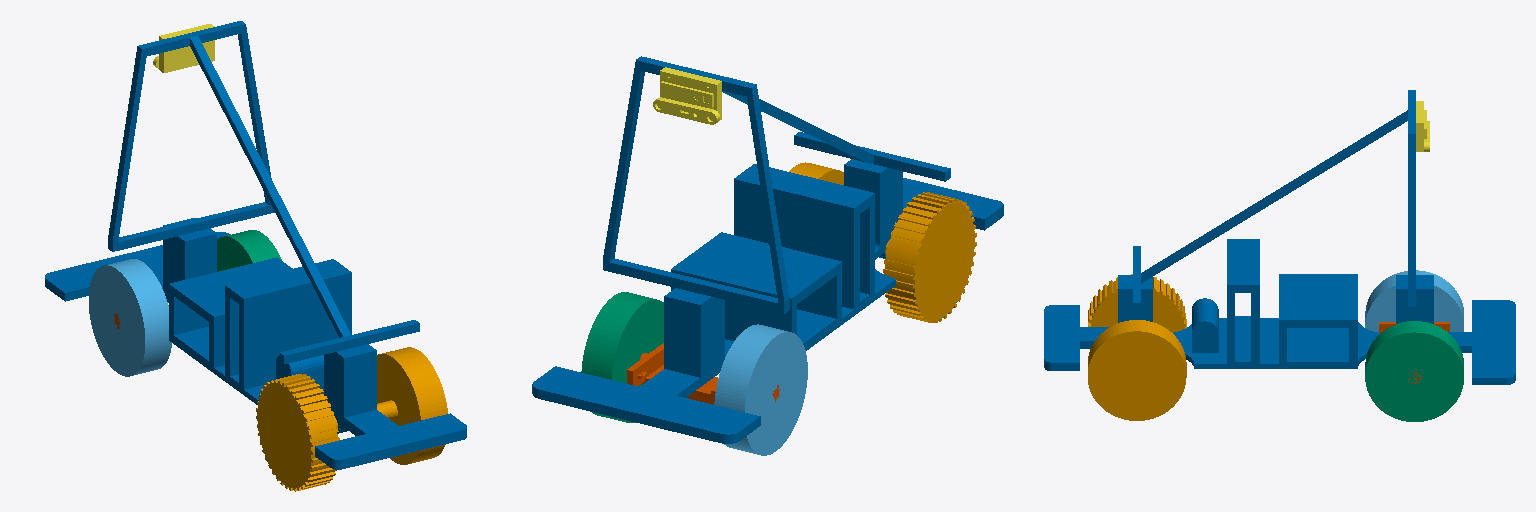
The robot description file, URDF, robot "(Unsaved)":
<?xml version='1.0' encoding='utf-8'?>
<robot name="(Unsaved)">
    <link name="Back_wheels">
        <inertial>
            <origin xyz="3.842196187875402e-09 -0.00020507013501120497 -0.022227366047362317" rpy="1.0270412732280397e-91 -0.0 0.0" />
            <mass value="20.66206902776893" />
            <inertia ixx="0.2438239801543789" iyy="0.24382049517018312" izz="0.07998280022014725" ixy="-1.0047518372857667e-14" iyz="-0.0003724536269543721" ixz="-1.3550272015550036e-13" />
        </inertial>
        <visual name="Back_wheels_visual">
            <origin xyz="3.842252107588706e-09 -0.2549864591128662 -0.0251377539084877" rpy="-1.570796326792494 -1.570256115713959 -1.5707963268000877" />
            <geometry>
                <mesh filename="package://modukart/meshes/Back_wheels.stl" scale="0.001 0.001 0.001" />
            </geometry>
        </visual>
        <collision name="Back_wheels_collision">
            <origin xyz="3.842252107588706e-09 -0.2549864591128662 -0.0251377539084877" rpy="-1.570796326792494 -1.570256115713959 -1.5707963268000877" />
            <geometry>
                <mesh filename="package://modukart/meshes/Back_wheels.stl" scale="0.001 0.001 0.001" />
            </geometry>
        </collision>
    </link>
    <link name="Front_wheel_left">
        <inertial>
            <origin xyz="4.535136728378575e-09 1.3505946814795778e-05 -0.02499999905359404" rpy="1.7516230804060213e-46 -0.0 0.0" />
            <mass value="10.124080229337785" />
            <inertia ixx="0.02320706211644341" iyy="0.023207067658124324" izz="0.04219575192948445" ixy="6.858402734621906e-14" iyz="-1.0257901648075277e-05" ixz="8.326672684688677e-17" />
        </inertial>
        <visual name="Front_wheel_left_visual">
            <origin xyz="4.529884414239405e-09 -0.2549324357268817 -0.12513773828112604" rpy="1.5707963267972227 1.570256115713959 1.570796326797222" />
            <geometry>
                <mesh filename="package://modukart/meshes/Front_wheel_left.stl" scale="0.001 0.001 0.001" />
            </geometry>
        </visual>
        <collision name="Front_wheel_left_collision">
            <origin xyz="4.529884414239405e-09 -0.2549324357268817 -0.12513773828112604" rpy="1.5707963267972227 1.570256115713959 1.570796326797222" />
            <geometry>
                <mesh filename="package://modukart/meshes/Front_wheel_left.stl" scale="0.001 0.001 0.001" />
            </geometry>
        </collision>
    </link>
    <link name="front_wheel_right">
        <inertial>
            <origin xyz="3.842252516150779e-09 -1.3505934469755232e-05 0.024999993048396868" rpy="1.7516230804060213e-46 -0.0 0.0" />
            <mass value="10.201325598573922" />
            <inertia ixx="0.02322436465106581" iyy="0.023224370188151884" izz="0.04219817143230854" ixy="-5.551115123125784e-16" iyz="-1.0249861668698571e-05" ixz="4.3021142204224826e-16" />
        </inertial>
        <visual name="front_wheel_right_visual">
            <origin xyz="0.25500000384225274 -6.752703993608834e-05 0.12499997845699663" rpy="1.4910418945830205e-12 1.570256115713959 1.5707963267972223" />
            <geometry>
                <mesh filename="package://modukart/meshes/front_wheel_right.stl" scale="0.001 0.001 0.001" />
            </geometry>
        </visual>
        <collision name="front_wheel_right_collision">
            <origin xyz="0.25500000384225274 -6.752703993608834e-05 0.12499997845699663" rpy="1.4910418945830205e-12 1.570256115713959 1.5707963267972223" />
            <geometry>
                <mesh filename="package://modukart/meshes/front_wheel_right.stl" scale="0.001 0.001 0.001" />
            </geometry>
        </collision>
    </link>
    <link name="camera-module">
        <inertial>
            <origin xyz="3.781530916220133e-05 0.03299377486128144 0.010232648764664525" rpy="0.0 9.723461371658034e-63 0.0" />
            <mass value="0.8784846570711062" />
            <inertia ixx="0.0002968041353251516" iyy="0.0006932091965755685" izz="0.0009193883157832816" ixy="-2.0997045332114828e-07" iyz="-2.5351192149219992e-05" ixz="-7.091543648323276e-07" />
        </inertial>
        <visual name="camera-module_visual">
            <origin xyz="0.0027498813932640134 0.47510807615774825 -0.25749855157291784" rpy="1.5707963267948972 -0.0005402110809374263 2.8042867269018938e-15" />
            <geometry>
                <mesh filename="package://modukart/meshes/camera-module.stl" scale="0.001 0.001 0.001" />
            </geometry>
        </visual>
        <collision name="camera-module_collision">
            <origin xyz="0.0027498813932640134 0.47510807615774825 -0.25749855157291784" rpy="1.5707963267948972 -0.0005402110809374263 2.8042867269018938e-15" />
            <geometry>
                <mesh filename="package://modukart/meshes/camera-module.stl" scale="0.001 0.001 0.001" />
            </geometry>
        </collision>
    </link>
    <link name="frame">
        <inertial>
            <origin xyz="-4.620511364348385e-12 0.015070821550716295 0.06669557803553043" rpy="0.0 0.0 0.0" />
            <mass value="42.72303096681609" />
            <inertia ixx="2.1374905124329038" iyy="0.3993501601802626" izz="2.014479135732941" ixy="4.6372567461330854e-11" iyz="-0.04770246035593604" ixz="1.594343484387785e-11" />
        </inertial>
        <visual name="frame_visual">
            <origin xyz="0.0 0.0 0.0" rpy="0.0 0.0 0.0" />
            <geometry>
                <mesh filename="package://modukart/meshes/frame.stl" scale="0.001 0.001 0.001" />
            </geometry>
        </visual>
        <collision name="frame_collision">
            <origin xyz="0.0 0.0 0.0" rpy="0.0 0.0 0.0" />
            <geometry>
                <mesh filename="package://modukart/meshes/frame.stl" scale="0.001 0.001 0.001" />
            </geometry>
        </collision>
    </link>
    <link name="front-axil">
        <inertial>
            <origin xyz="-7.525312628997583e-07 -0.0013985899550876368 -0.020279689467720453" rpy="0.0 -0.0 9.723461371658034e-63" />
            <mass value="2.1223411408188753" />
            <inertia ixx="0.0015108397420215414" iyy="0.010579217970460571" izz="0.011462797436976549" ixy="4.8988403112230905e-06" iyz="3.091773603187964e-05" ixz="1.670210522360452e-08" />
        </inertial>
        <visual name="front-axil_visual">
            <origin xyz="0.0001377568210820357 0.2549999619424091 -0.030000003842252678" rpy="-3.1415926535897922 -1.2562495978386581e-15 -0.0005402110809377047" />
            <geometry>
                <mesh filename="package://modukart/meshes/front-axil.stl" scale="0.001 0.001 0.001" />
            </geometry>
        </visual>
        <collision name="front-axil_collision">
            <origin xyz="0.0001377568210820357 0.2549999619424091 -0.030000003842252678" rpy="-3.1415926535897922 -1.2562495978386581e-15 -0.0005402110809377047" />
            <geometry>
                <mesh filename="package://modukart/meshes/front-axil.stl" scale="0.001 0.001 0.001" />
            </geometry>
        </collision>
    </link>
    <link name="base_link">
        </link>
    <joint name="frame_Revolute-11" type="fixed">
        <origin xyz="0.030000003736534664 -0.25500000159932606 -3.8422506065671765e-09" rpy="3.1410524425088555 -1.5707963267948954 0" />
        <parent link="frame" />
        <child link="Back_wheels" />
    </joint>
    <joint name="frame_Revolute-12" type="fixed">
        <origin xyz="-3.0026015940265438e-09 0.2549999991521039 -0.03000000384225289" rpy="3.1415926535897887 -2.8067689547428576e-15 -0.0005402110809377221" />
        <parent link="frame" />
        <child link="front-axil" />
    </joint>
    <joint name="front-axil_Revolute-13" type="fixed">
        <origin xyz="-0.13499998 7.293000000000661e-05 -0.03000000000000001" rpy="3.141592653589793 1.5707963267948966 0" />
        <parent link="front-axil" />
        <child link="Front_wheel_left" />
    </joint>
    <joint name="front-axil_Revolute-14" type="fixed">
        <origin xyz="0.13499998 -7.293000000000661e-05 -0.03000000000000001" rpy="3.141592653589793 1.5707963267948966 0" />
        <parent link="front-axil" />
        <child link="front_wheel_right" />
    </joint>
    <joint name="frame_Rigid-15" type="fixed">
        <origin xyz="-2.4747685278825318e-09 0.2574999995166038 0.4751080761577447" rpy="-1.5707963267949012 -2.8067689547428576e-15 -0.0005402110809377221" />
        <parent link="frame" />
        <child link="camera-module" />
    </joint>
    <joint name="base_link_to_frame" type="fixed">
        <parent link="base_link"/>
        <child link="frame"/>
        <origin xyz="0 0 0" rpy="0 0 0"/>
    </joint>
</robot>

--- What the picture shows (computed from the rendered views, not written in the file) ---
3 views of the same robot in one strip: view 1: azimuth 30°, elevation 25°; view 2: azimuth 150°, elevation 25°; view 3: azimuth 270°, elevation 25° (orthographic).
Model (Unsaved) with 7 links and 6 joints (6 fixed), rooted at base_link, posed every joint at zero.
Visible links, largest first — view 1: frame, Back_wheels, Front_wheel_left, front_wheel_right, camera-module; view 2: frame, Back_wheels, Front_wheel_left, front_wheel_right, camera-module, front-axil; view 3: frame, Back_wheels, front_wheel_right, Front_wheel_left, camera-module.
Boxes of the visible links, x1,y1,x2,y2 form: frame: [45, 21, 466, 469]; Back_wheels: [256, 347, 447, 491]; Front_wheel_left: [89, 259, 171, 376]; front_wheel_right: [217, 230, 281, 271]; camera-module: [153, 24, 214, 72]; frame: [532, 56, 1003, 443]; Back_wheels: [789, 162, 976, 322]; Front_wheel_left: [714, 324, 807, 455]; front_wheel_right: [581, 292, 663, 422]; camera-module: [653, 67, 721, 124]; front-axil: [627, 343, 779, 404]; frame: [1044, 90, 1515, 384]; Back_wheels: [1088, 274, 1186, 420]; front_wheel_right: [1365, 321, 1463, 421]; Front_wheel_left: [1365, 270, 1463, 332]; camera-module: [1416, 101, 1429, 151].
Size in the robot's own frame: 0.34 by 0.865 by 0.5661 metres.
Meshes: 6 distinct files referenced, 6 mesh visuals loaded (6 binary STL).
